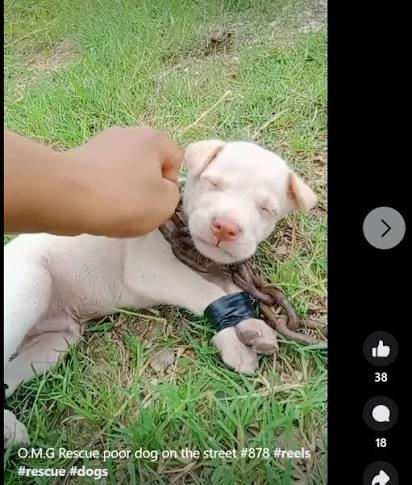puppy-dog: (1, 136, 320, 391)
